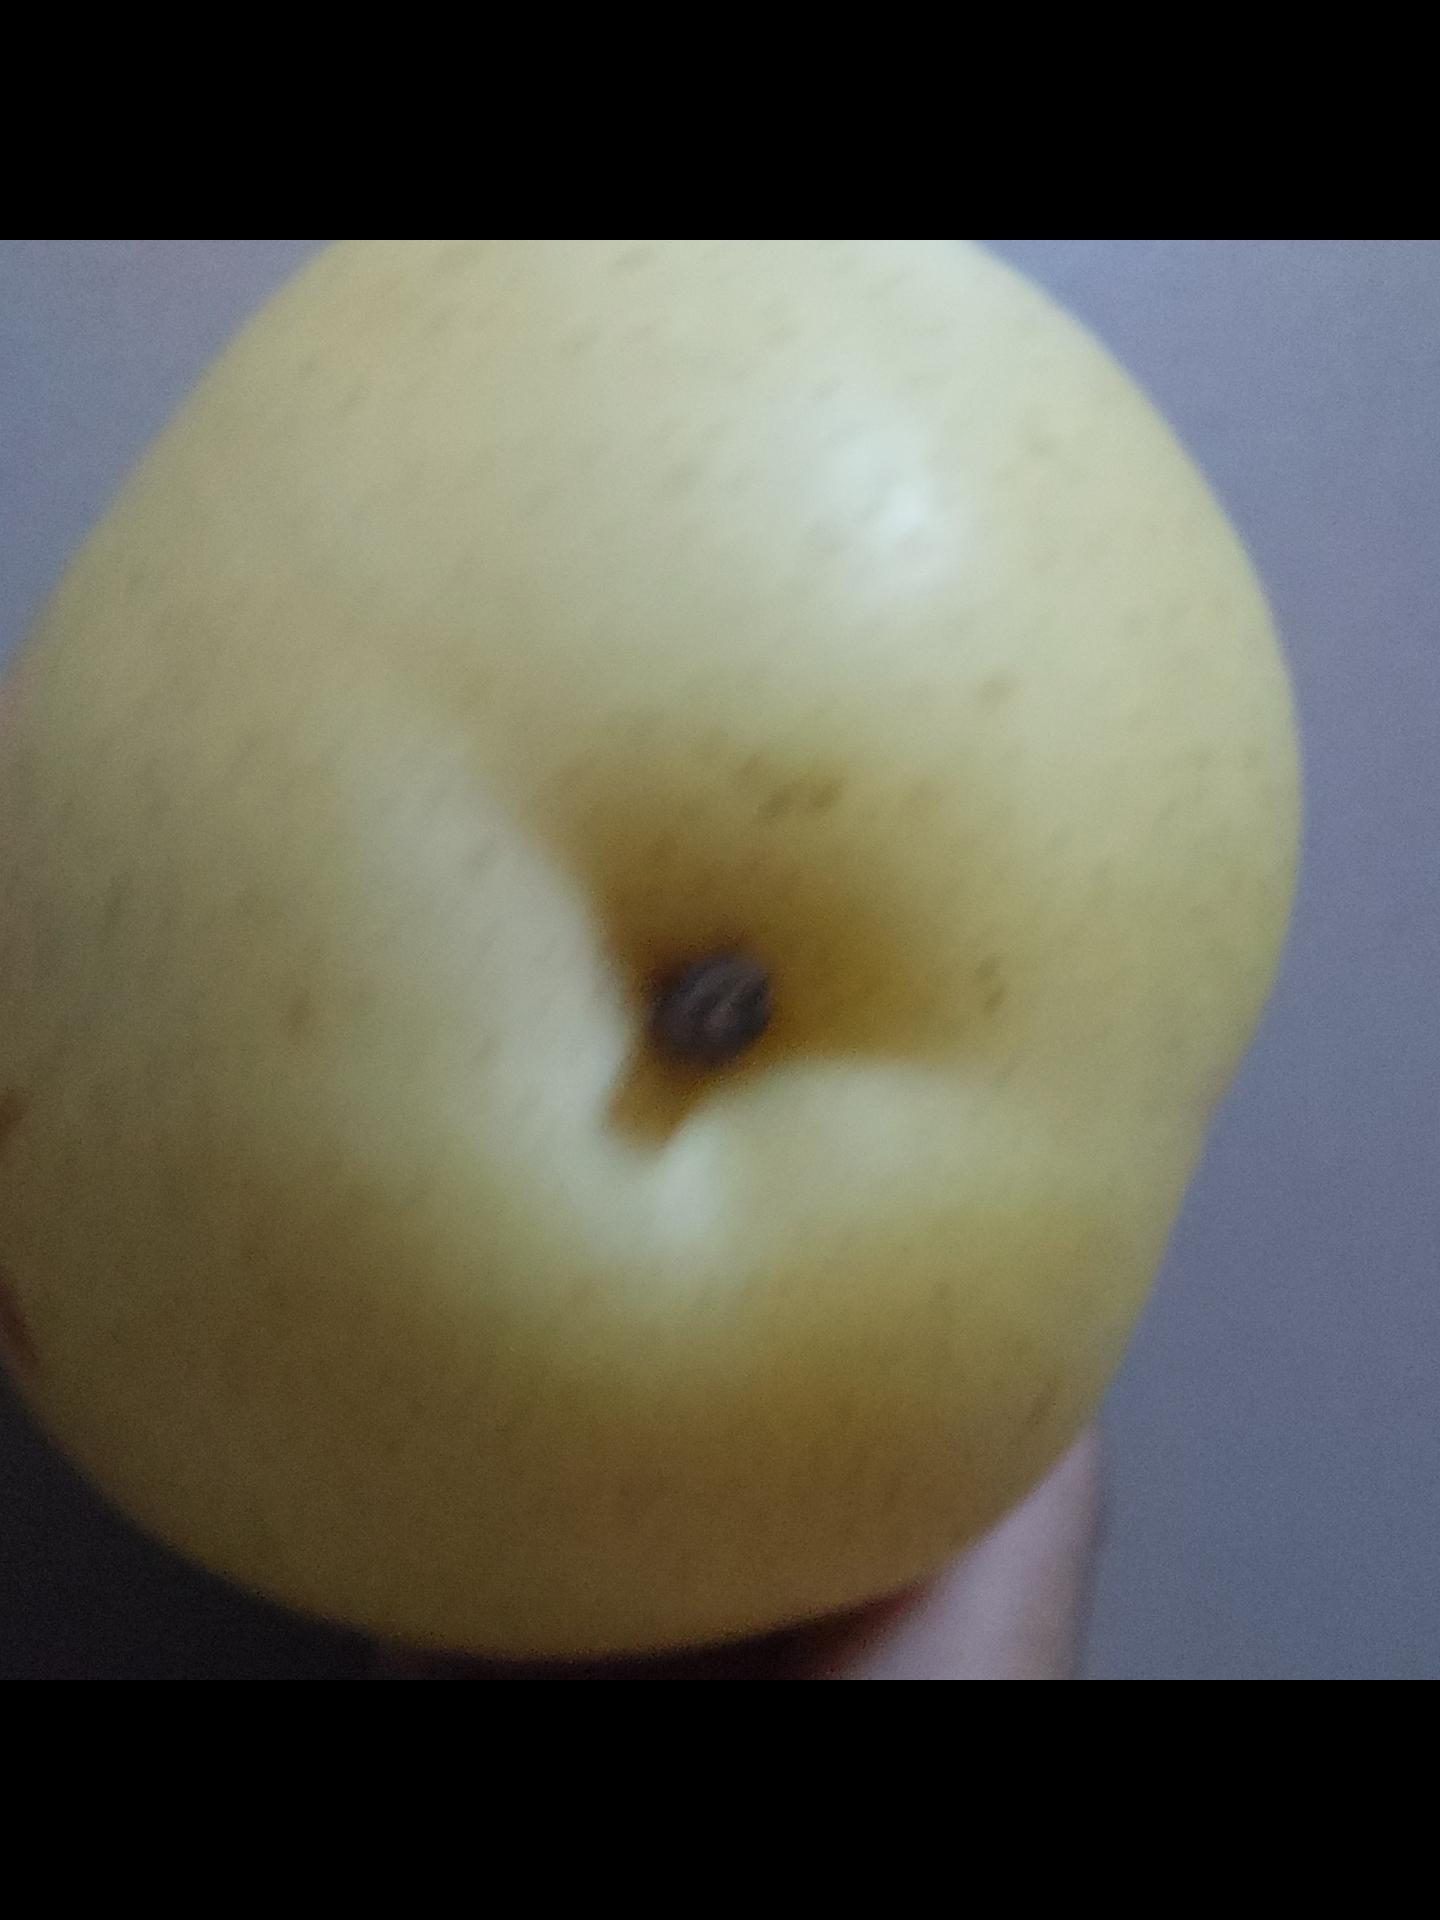Good Pear: (0, 240, 1308, 1672)
